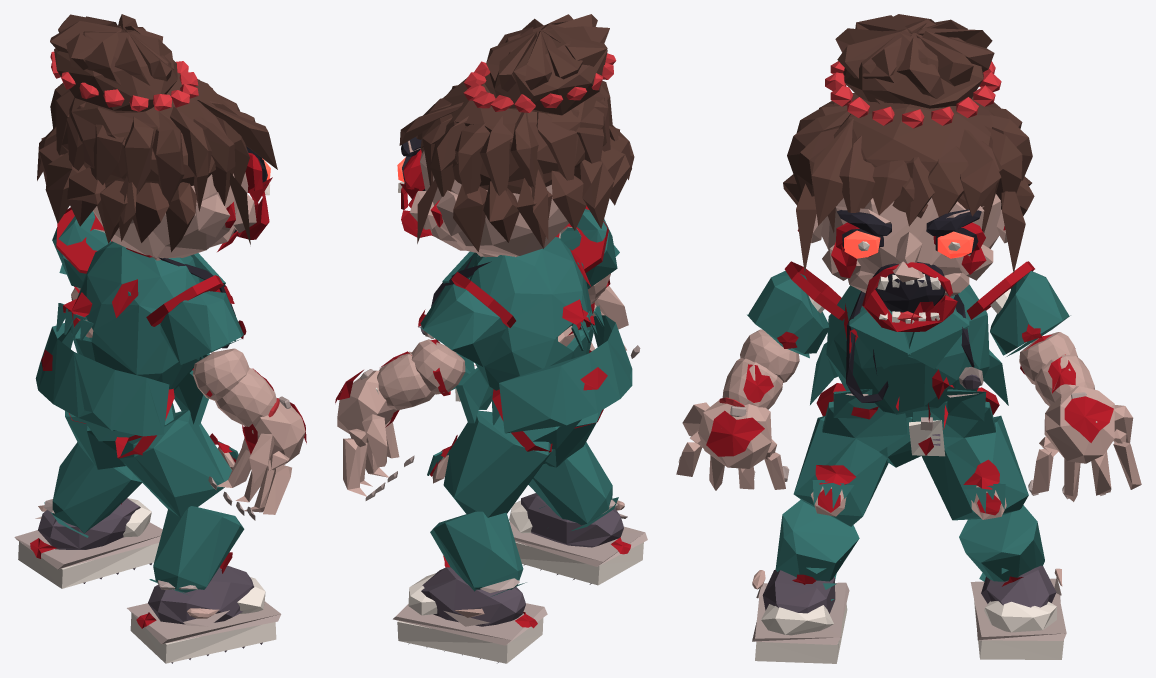
Rendered from inf.nurse.lod1.glb.
3 renders of one model, left to right at view 1: azimuth 30°, elevation 25°; view 2: azimuth 150°, elevation 25°; view 3: azimuth 270°, elevation 25°, orthographic. The views are drawn at different scales.
Parts seen in each view (by area): view 1: head, torso, footR, footL, legR, armR, handR, shinR, shinL, foreArmR, armL, legL (+4 smaller); view 2: head, torso, footL, footR, legL, armL, handL, shinL, shinR, foreArmL, armR, legR (+5 smaller); view 3: head, torso, handL, footR, footL, legL, handR, legR, armR, armL, shinR, shinL (+5 smaller).
Part boxes in pixels (<box>): head: <box>37,14,277,260</box>; torso: <box>35,241,235,436</box>; footR: <box>127,565,281,663</box>; footL: <box>14,498,162,588</box>; legR: <box>119,410,238,517</box>; armR: <box>160,291,249,400</box>; handR: <box>208,397,306,520</box>; shinR: <box>149,506,244,594</box>; shinL: <box>44,442,141,537</box>; foreArmR: <box>215,368,290,426</box>; armL: <box>52,211,111,290</box>; legL: <box>65,411,125,469</box>; head: <box>397,14,634,257</box>; torso: <box>420,237,632,433</box>; footL: <box>393,567,547,663</box>; footR: <box>509,493,647,585</box>; legL: <box>427,410,552,517</box>; armL: <box>411,284,505,394</box>; handL: <box>335,370,414,500</box>; shinL: <box>430,511,526,596</box>; shinR: <box>528,442,618,530</box>; foreArmL: <box>360,351,434,410</box>; armR: <box>560,209,619,299</box>; legR: <box>543,410,601,467</box>; head: <box>783,14,1034,331</box>; torso: <box>810,284,1008,456</box>; handL: <box>1028,386,1141,501</box>; footR: <box>752,569,849,663</box>; footL: <box>970,565,1066,659</box>; legL: <box>921,415,1028,520</box>; handR: <box>676,398,789,490</box>; legR: <box>793,416,888,526</box>; armR: <box>740,271,828,382</box>; armL: <box>990,271,1077,384</box>; shinR: <box>775,499,859,600</box>; shinL: <box>959,505,1044,586</box>.
Bounding box in the file's own units: 0.678 × 1.77 × 1.26.
